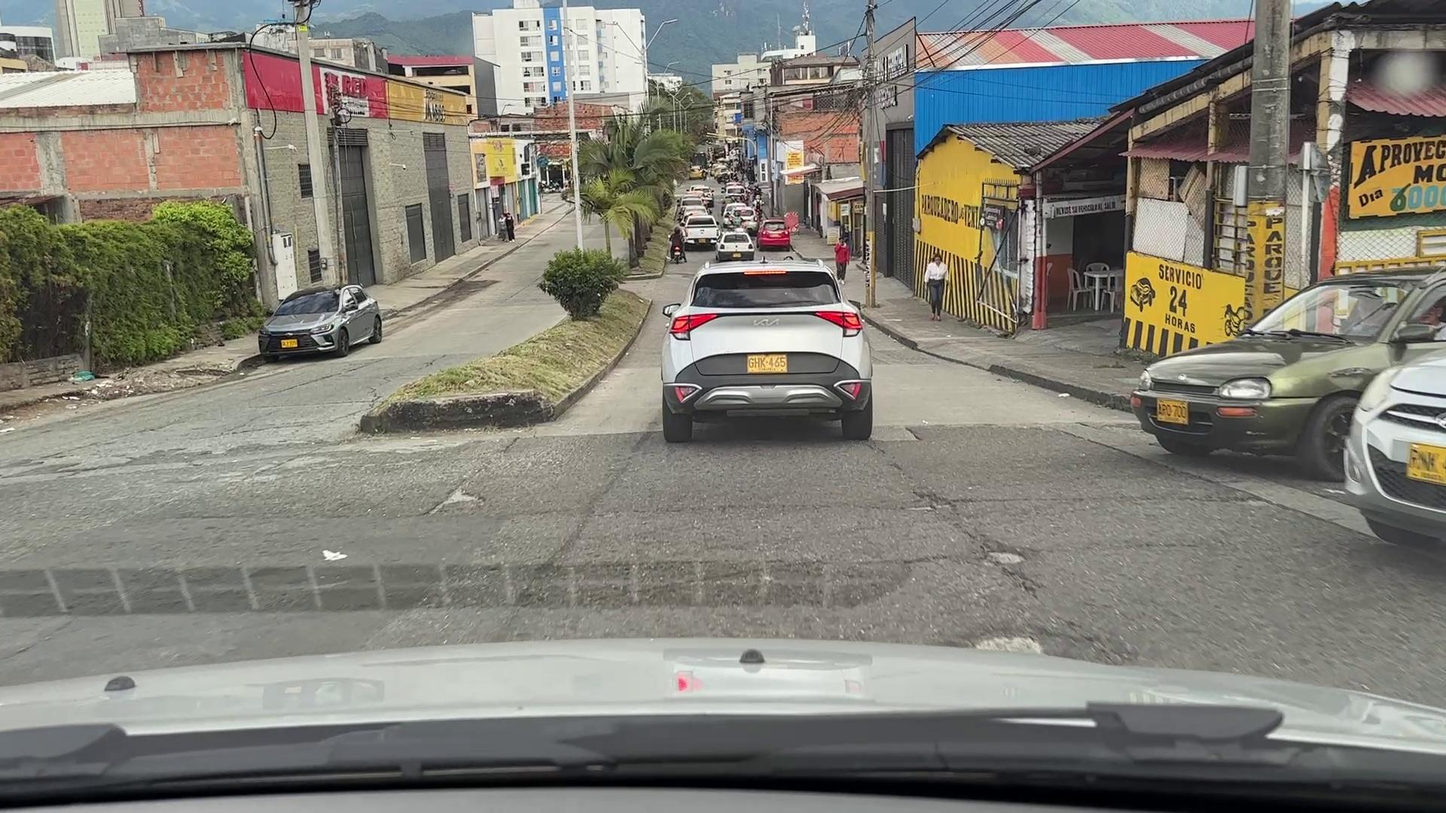bache: (974, 636, 1042, 653), (432, 489, 479, 512), (989, 553, 1023, 564)
